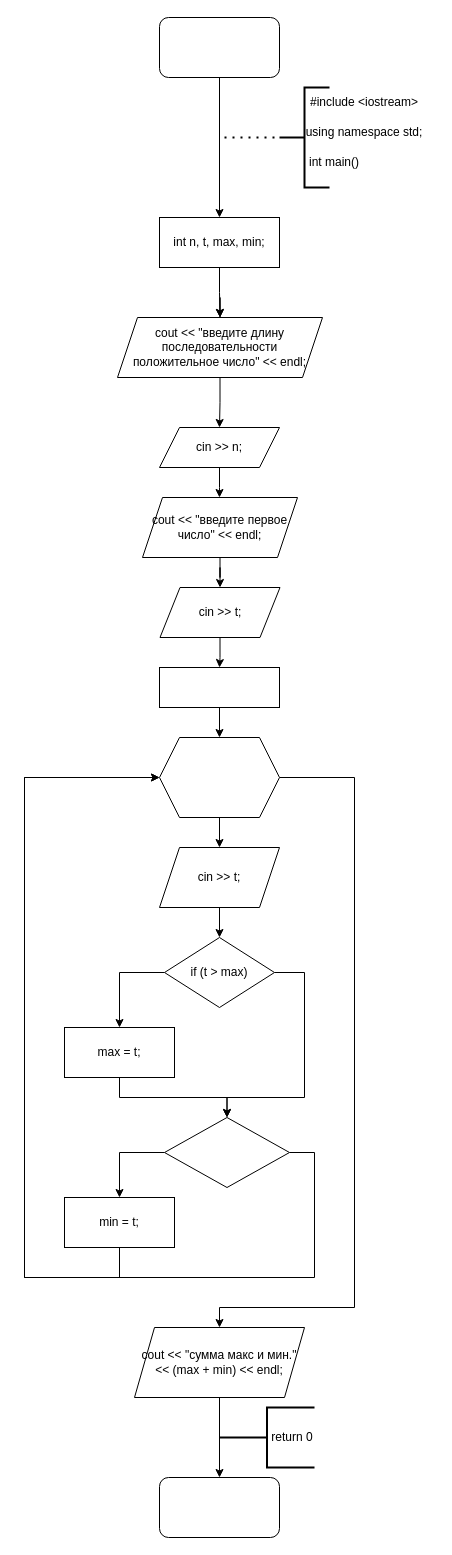
Image size: 452x1555. Some labels were removed from this diagram. The box of each missing label's shape, as (x1, y1, x2, y2) in pixels:
for (int i = 2; i <= n; i++): (158, 736, 280, 818)
if (t < min): (164, 1116, 290, 1188)
max = min = t;: (158, 666, 280, 708)
конец: (158, 1476, 280, 1538)
начало: (158, 16, 280, 78)
